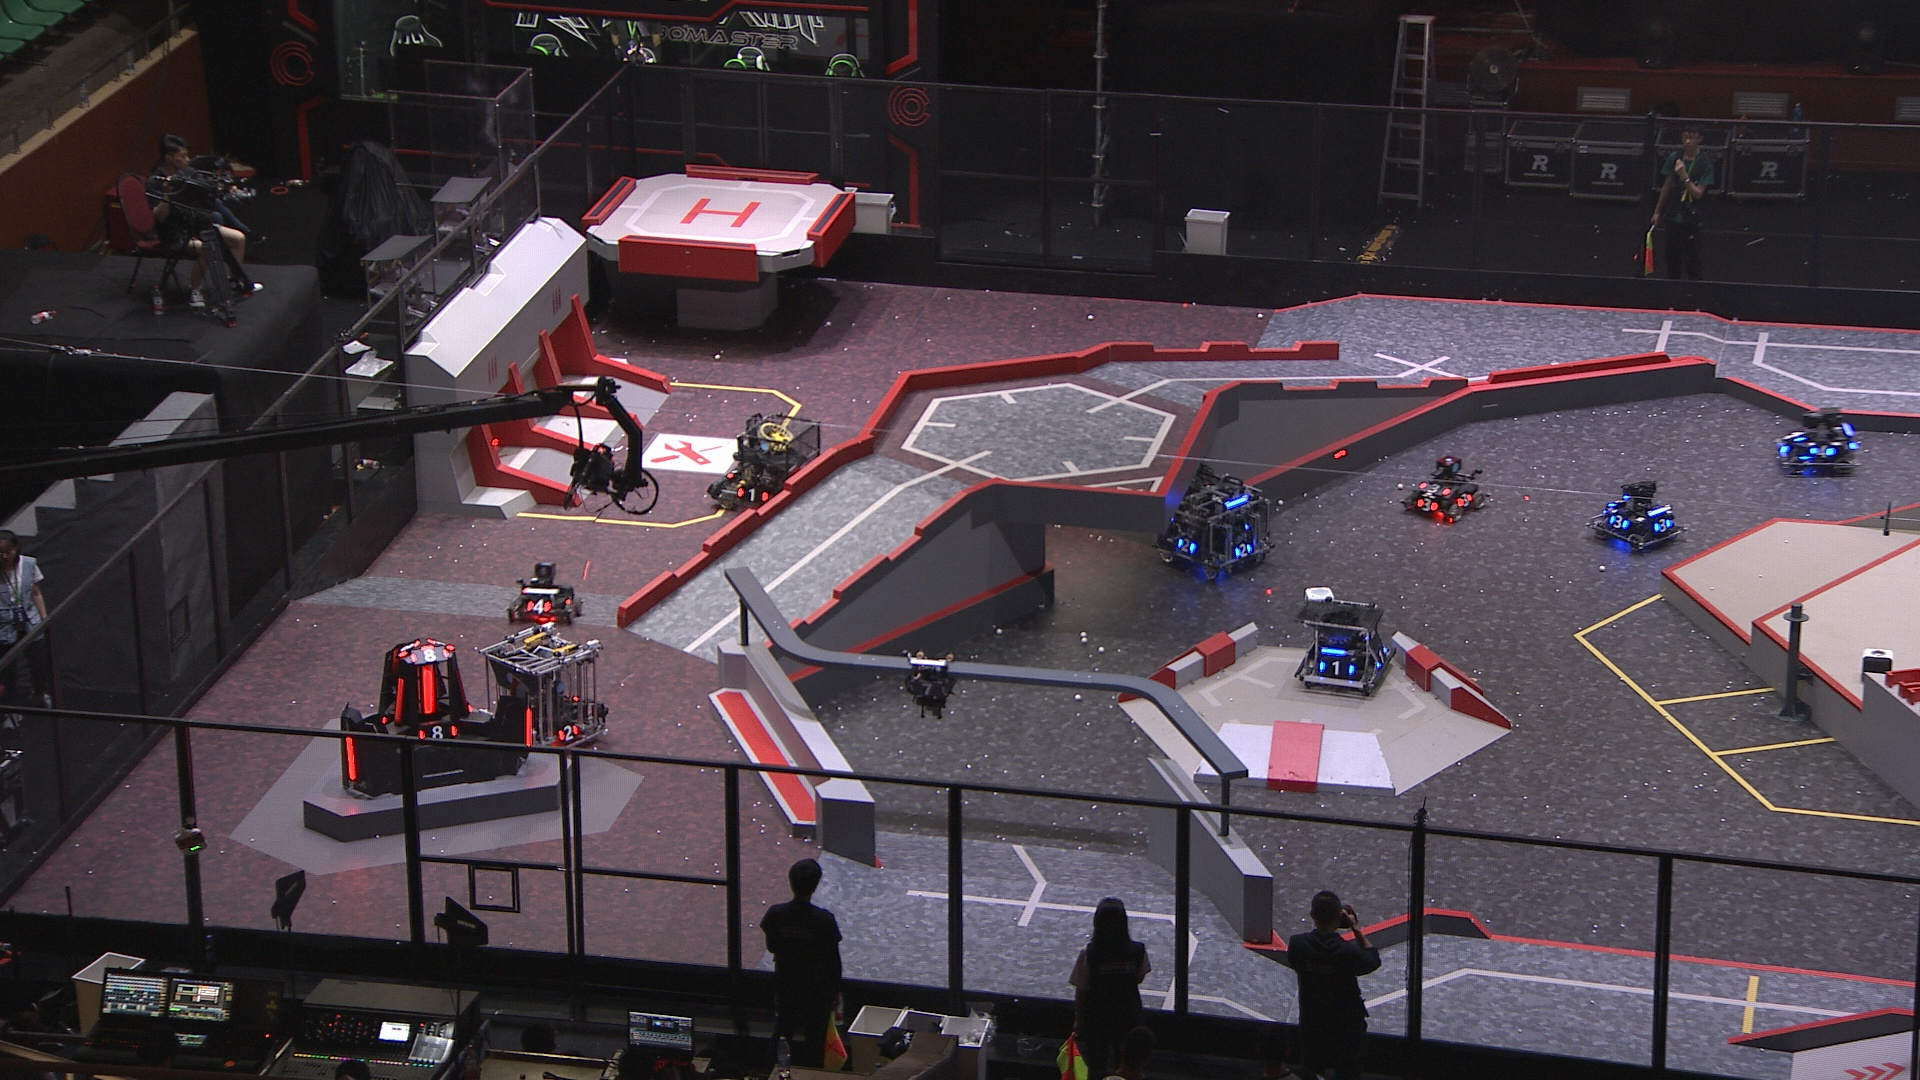armor: (417, 662, 436, 713), (415, 723, 462, 744), (1316, 659, 1357, 679), (406, 647, 452, 665), (392, 676, 406, 723), (733, 487, 767, 505), (910, 683, 949, 699), (555, 721, 580, 745), (345, 735, 356, 782), (398, 637, 422, 657), (1371, 645, 1390, 670), (1416, 483, 1451, 496), (524, 707, 534, 749), (526, 597, 551, 615), (1176, 537, 1197, 556), (1809, 443, 1837, 458), (1414, 498, 1439, 514), (1607, 513, 1629, 531), (1233, 543, 1253, 559), (1652, 518, 1673, 533), (1456, 495, 1474, 506), (1785, 431, 1804, 442)
base: (338, 636, 539, 799)
car: (473, 621, 609, 756), (1154, 465, 1271, 578), (704, 410, 823, 517), (1286, 595, 1396, 699), (1585, 479, 1687, 553), (1399, 455, 1487, 527), (1774, 404, 1861, 473), (505, 560, 584, 628)
watcher: (901, 651, 959, 719)
